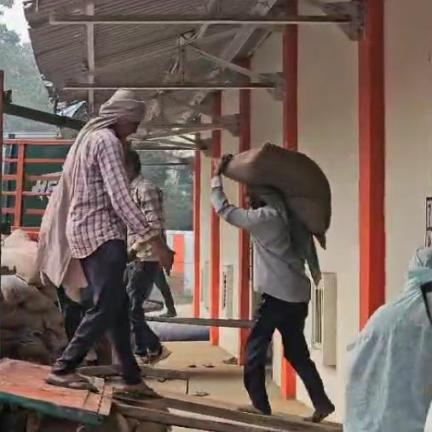Zone-Counting: (210, 143, 334, 422)
